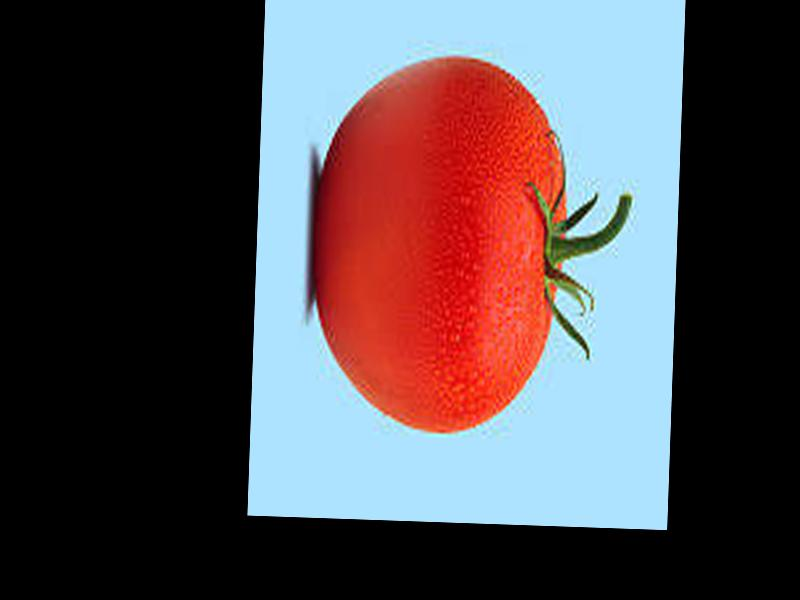Tomato: (311, 53, 569, 437)
